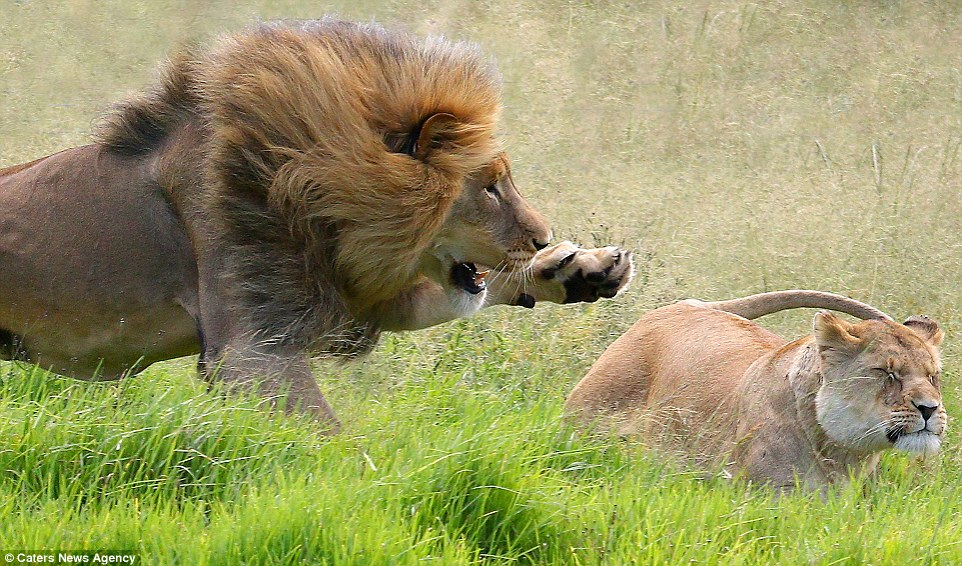lion: (1, 16, 638, 440), (564, 293, 954, 496)
